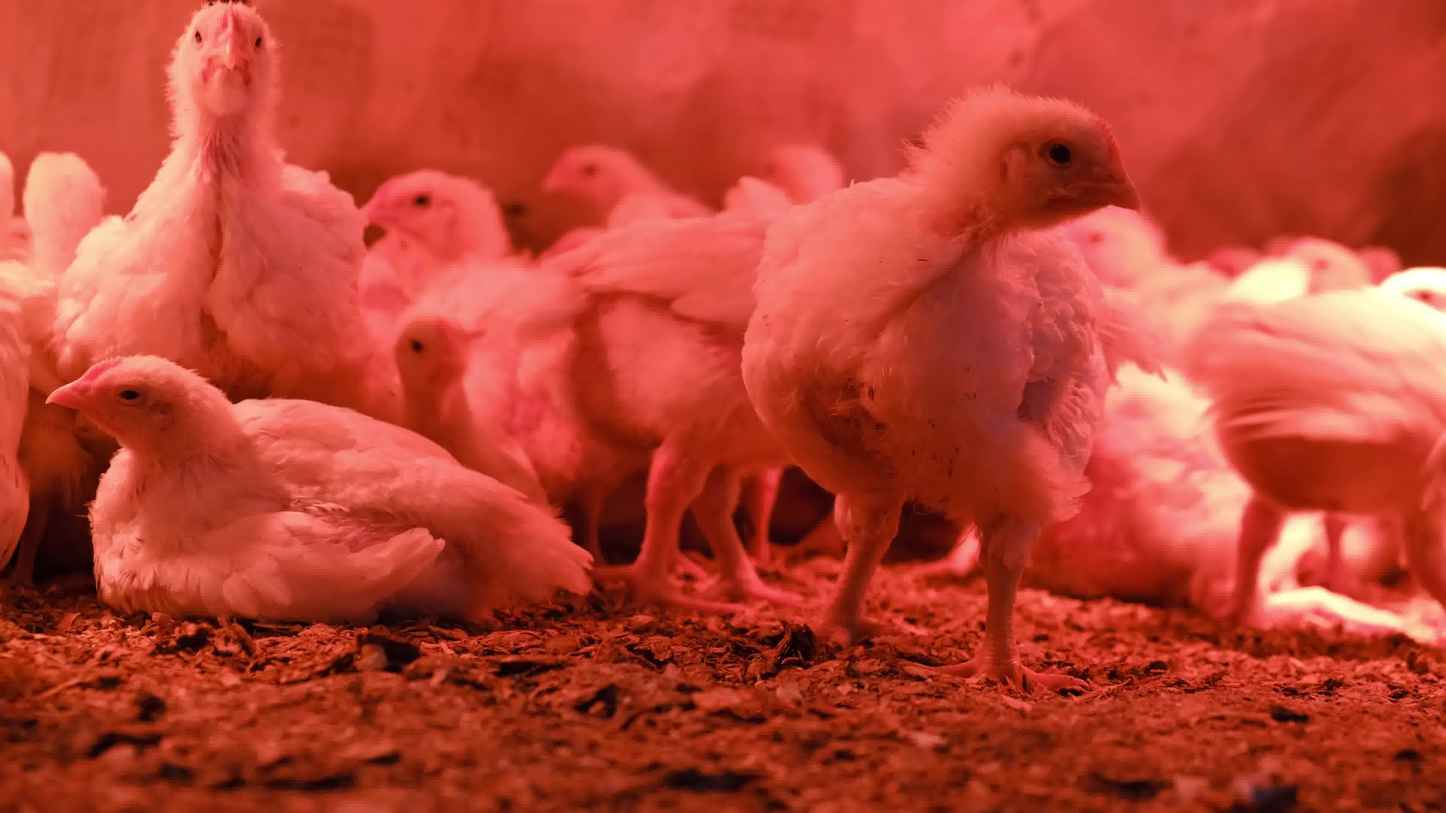AbNormal: (43, 349, 593, 625), (1022, 365, 1322, 612), (375, 309, 560, 611)
Normal: (739, 94, 1151, 694), (524, 194, 825, 611), (61, 2, 368, 381), (1206, 269, 1446, 663), (369, 172, 518, 277), (552, 143, 701, 225), (22, 151, 102, 279)
